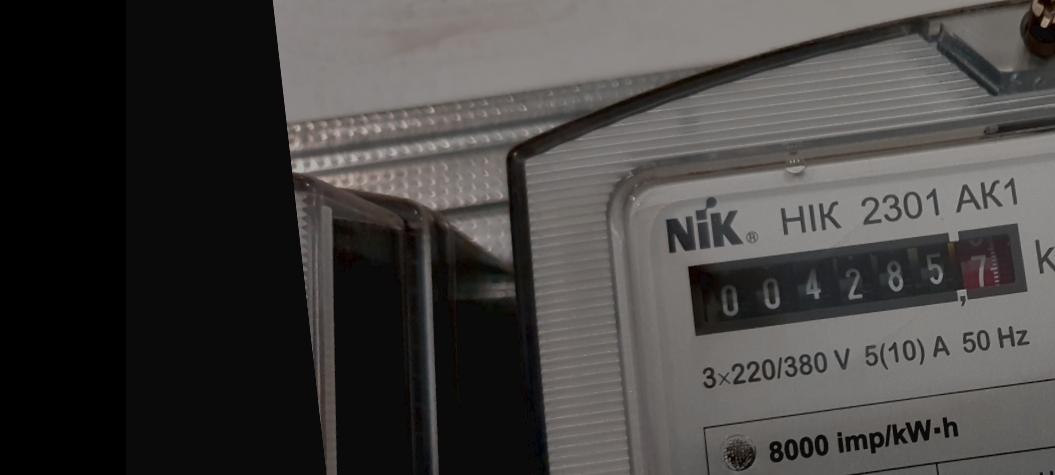0: (759, 273, 784, 312), (717, 280, 742, 318)
2: (842, 264, 865, 302)
4: (802, 265, 823, 301)
5: (922, 248, 947, 286)
7: (968, 251, 991, 289)
8: (882, 256, 907, 295)
screen: (671, 210, 1045, 350)
